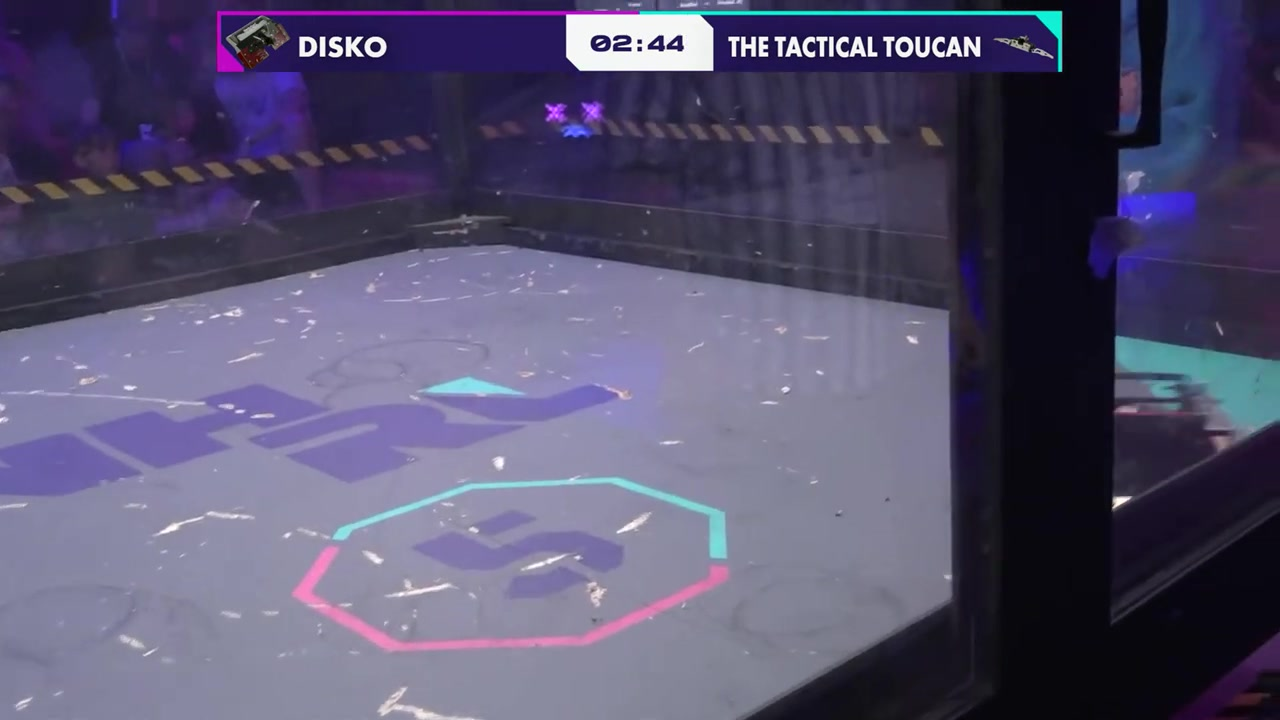combatbot: (1115, 358, 1241, 508)
